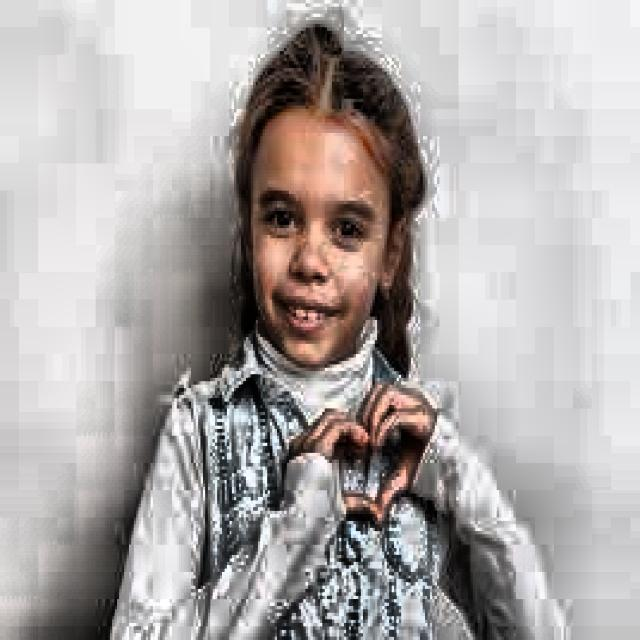Human: (125, 27, 569, 635)
